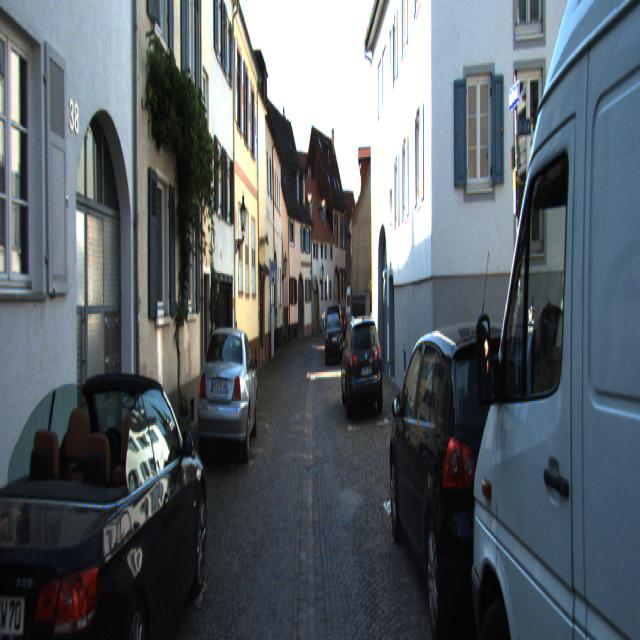Car: (454, 0, 613, 639), (385, 302, 564, 638), (0, 357, 209, 638), (196, 324, 258, 476), (341, 312, 385, 421), (346, 282, 366, 330), (324, 313, 342, 363)
